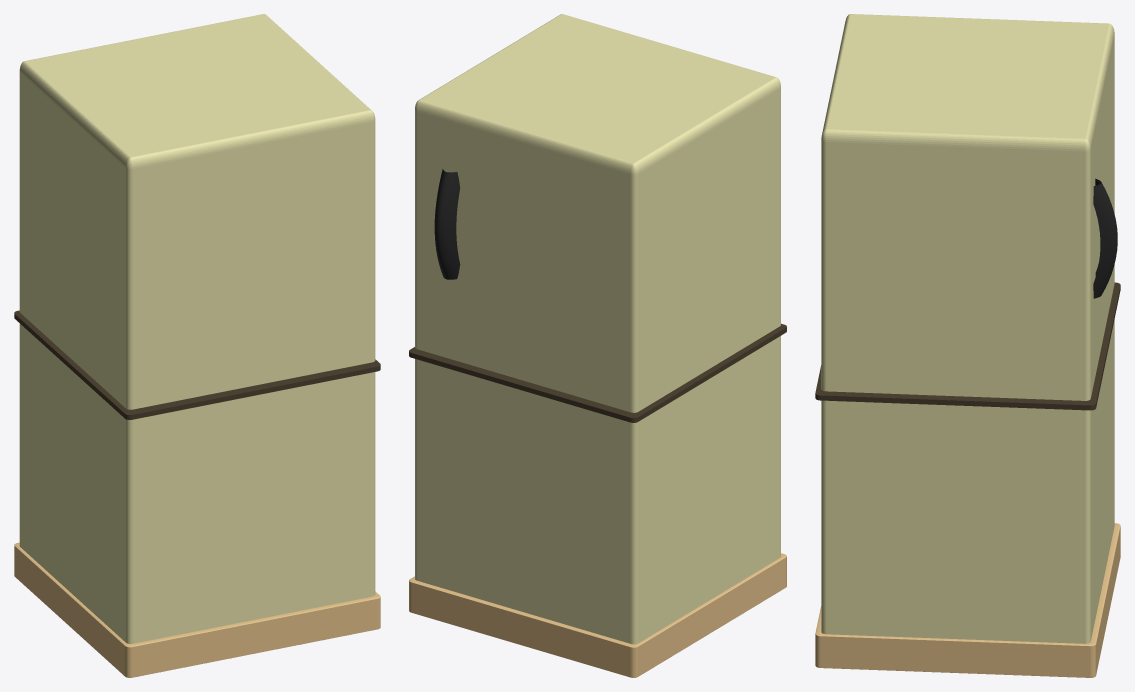
The model's file is fridge(Kiwi).fbx.
3 renders of one model, left to right at view 1: azimuth 30°, elevation 25°; view 2: azimuth 150°, elevation 25°; view 3: azimuth 270°, elevation 25°, orthographic. The views are drawn at different scales.
Parts seen in each view (by area): view 1: 立方体.009, 立方体.007, 立方体.008, 立方体.010; view 2: 立方体.009, 立方体.007, 立方体.008, 立方体.010, 曲面片.002; view 3: 立方体.009, 立方体.007, 立方体.008, 立方体.010, 曲面片.002.
Part boxes in pixels (box(x1,y1,x2,y2)): 立方体.009: box(19, 14, 375, 409); 立方体.007: box(19, 323, 375, 643); 立方体.008: box(14, 542, 380, 677); 立方体.010: box(14, 310, 380, 419); 立方体.009: box(415, 14, 780, 412); 立方体.007: box(415, 336, 780, 644); 立方体.008: box(409, 553, 786, 677); 立方体.010: box(409, 323, 786, 422); 曲面片.002: box(434, 169, 460, 279); 立方体.009: box(821, 14, 1114, 400); 立方体.007: box(821, 320, 1114, 643); 立方体.008: box(815, 523, 1120, 677); 立方体.010: box(815, 282, 1120, 410); 曲面片.002: box(1093, 178, 1117, 298).
Bounding box in the file's own units: 208 × 391 × 202.
